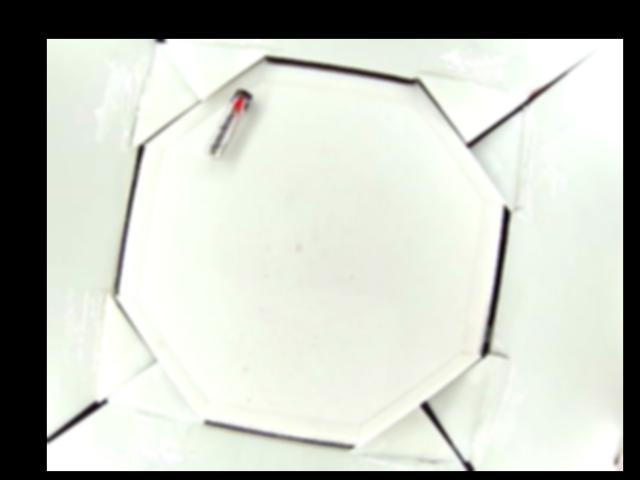Battery: (205, 89, 252, 160)
